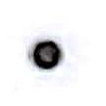cancer: (11, 17, 86, 88)
